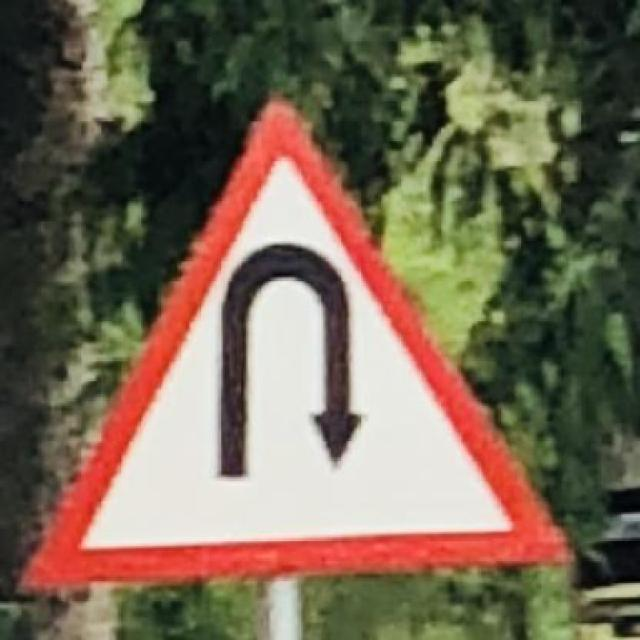u turn: (34, 105, 556, 558)
